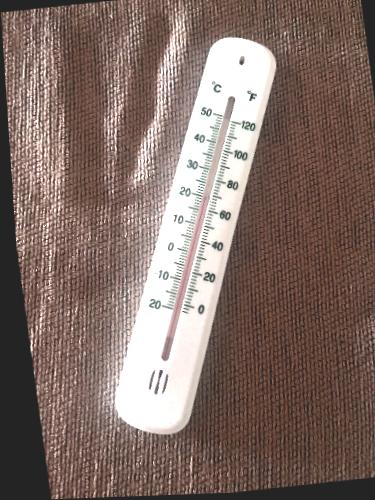thermo: (108, 30, 291, 432)
